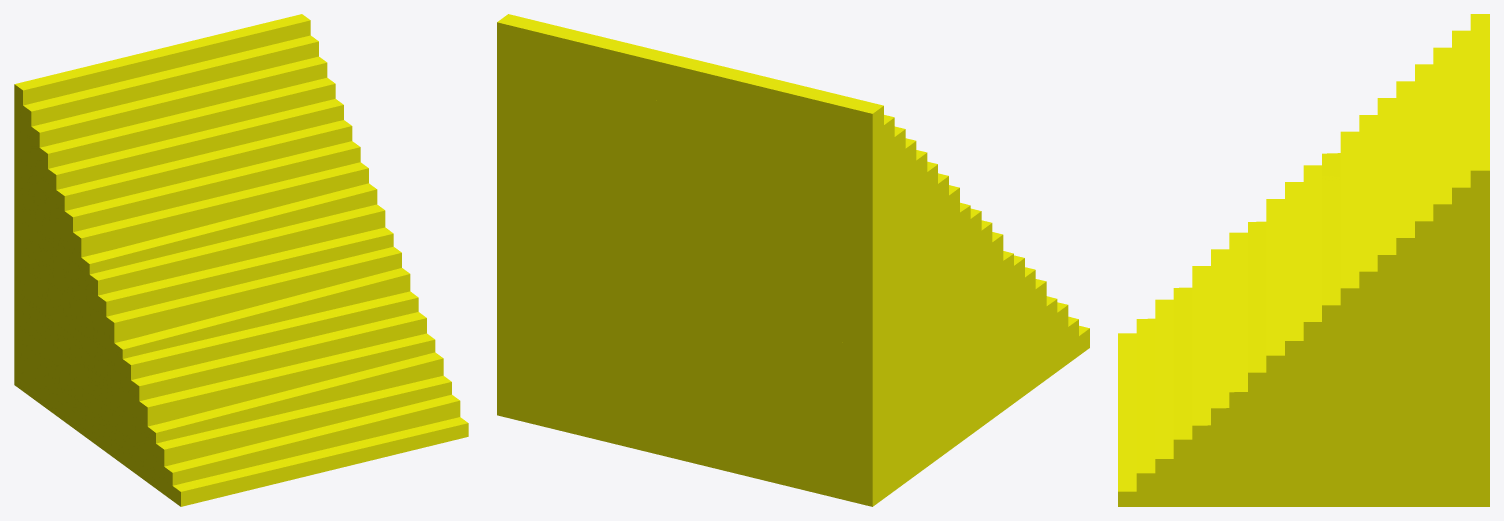
Rendered from STAIRS.glb.
The picture shows the model from 3 angles, left to right: view 1: azimuth 30°, elevation 25°; view 2: azimuth 150°, elevation 25°; view 3: azimuth 270°, elevation 25°; orthographic projection. The views are drawn at different scales.
Parts seen in each view (by area): view 1: Ceiling__2_; view 2: Ceiling__2_; view 3: Ceiling__2_.
Boxes of the visible parts, <box> form: Ceiling__2_: <box>14,14,468,506</box>; Ceiling__2_: <box>497,14,1089,506</box>; Ceiling__2_: <box>1118,14,1489,506</box>.
Bounding box in the file's own units: 4 × 4 × 4.01.
1 material, 1 textured.
